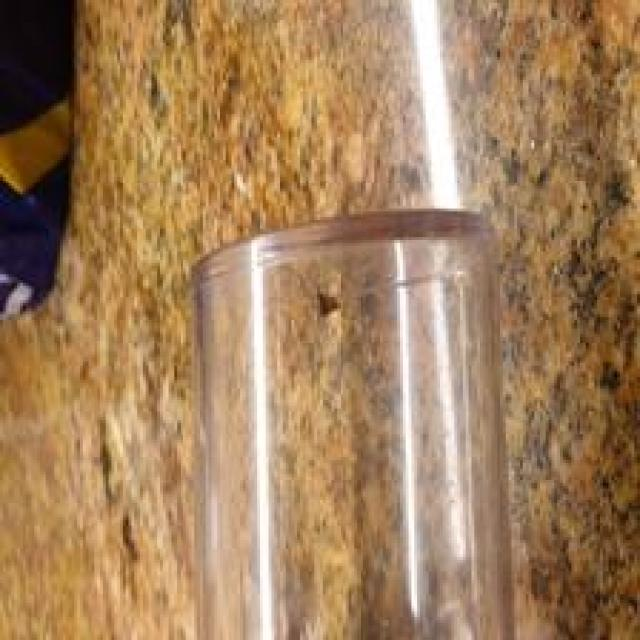Culex: (187, 0, 522, 640)
